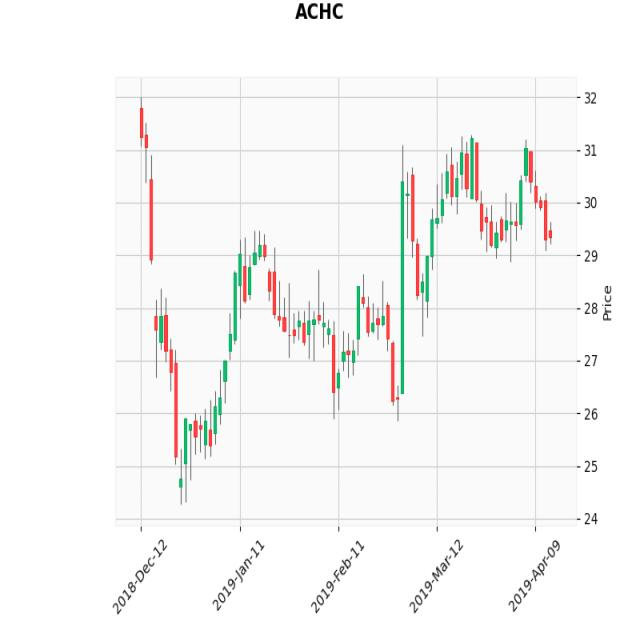Double-Bottom: (314, 262, 414, 426)
